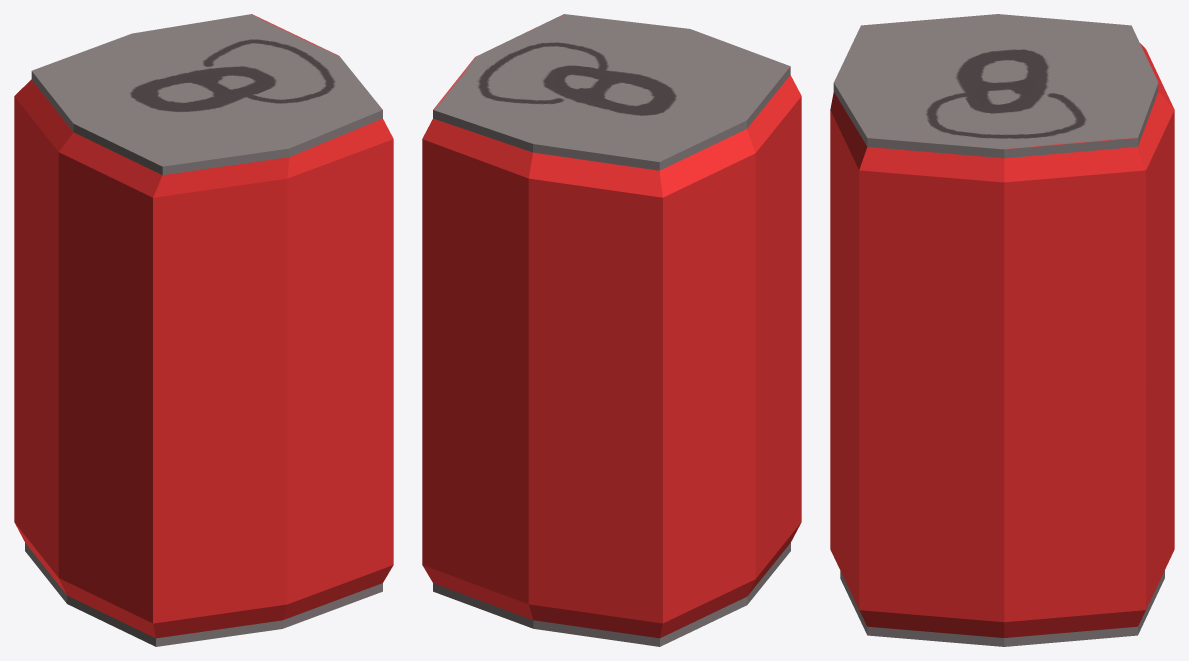
File: soda.fbx
3 views of the same model, side by side, from view 1: azimuth 30°, elevation 25°; view 2: azimuth 150°, elevation 25°; view 3: azimuth 270°, elevation 25° (orthographic). The views are drawn at different scales.
Parts seen in each view (by area): view 1: Cube; view 2: Cube; view 3: Cube.
Part boxes in pixels (x1,y1,x2,y2): Cube: [14, 14, 393, 646]; Cube: [422, 14, 801, 646]; Cube: [830, 14, 1174, 646].
Size of the model in its own units: 254 by 406 by 254.
